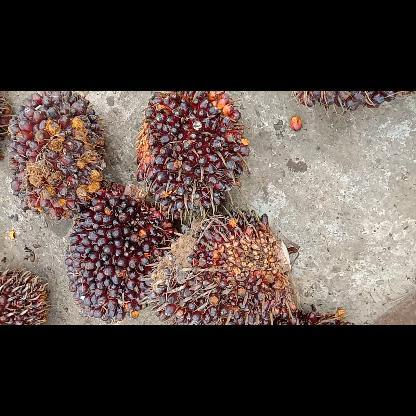Kurang masak: (147, 206, 299, 324), (63, 182, 180, 324), (131, 91, 251, 221), (0, 91, 110, 223)
